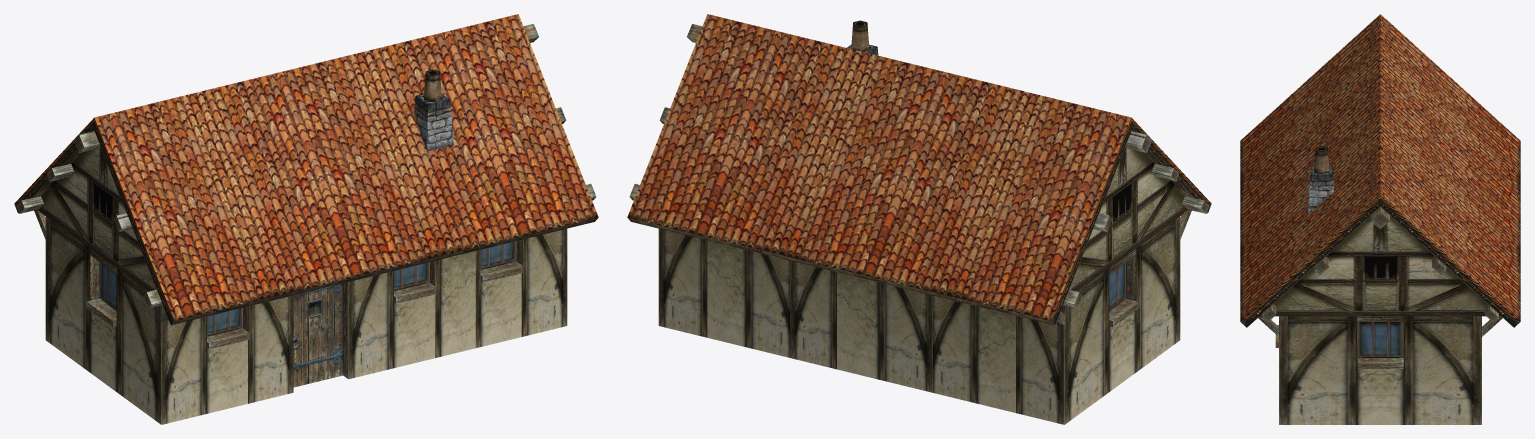
The model's file is S_home19.glb.
The picture shows the model from 3 angles, left to right: view 1: azimuth 30°, elevation 25°; view 2: azimuth 150°, elevation 25°; view 3: azimuth 270°, elevation 25°; orthographic projection. The views are drawn at different scales.
Visible parts, largest first — view 1: S_home19-col; view 2: S_home19-col; view 3: S_home19-col.
Boxes of the visible parts, left/top/right/bottom form: S_home19-col: left=14, top=14, right=598, bottom=424; S_home19-col: left=627, top=14, right=1211, bottom=424; S_home19-col: left=1240, top=14, right=1520, bottom=424.
Size of the model in its own units: 9.97 by 5.6 by 6.09.
Materials: 9 (9 with a texture image).
